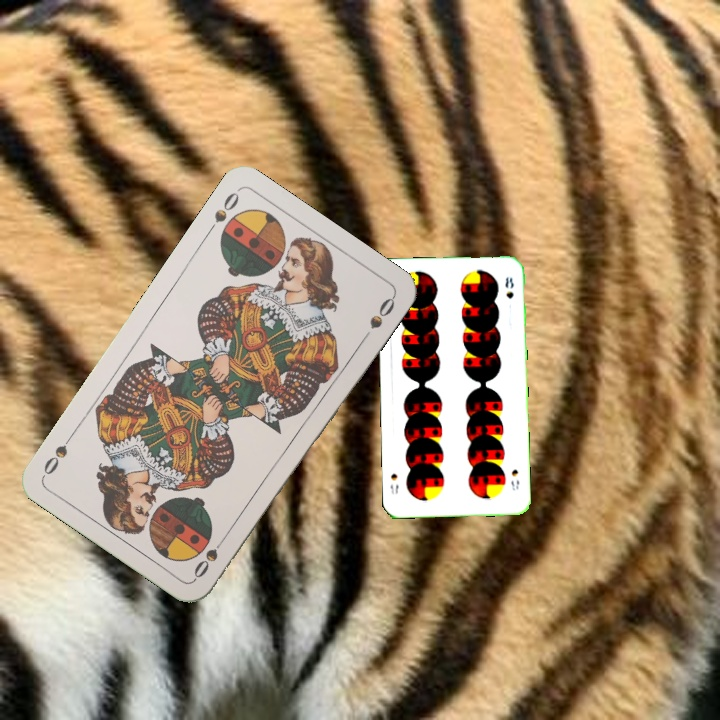S8: (507, 465, 522, 493)
SO: (189, 530, 231, 581), (202, 188, 242, 238)
